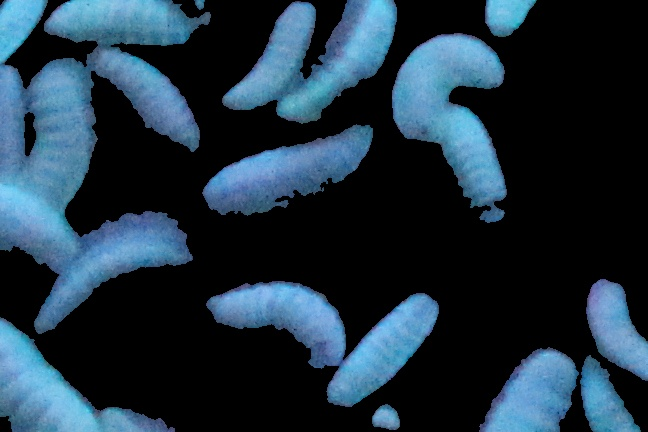larvae: (36, 221, 195, 335), (204, 126, 374, 212), (279, 1, 397, 122), (90, 46, 215, 155), (327, 293, 439, 408), (1, 318, 109, 432), (207, 283, 345, 370), (391, 35, 503, 142), (221, 1, 318, 110), (29, 58, 94, 217), (476, 348, 581, 432), (437, 104, 507, 222), (1, 187, 81, 269), (586, 278, 648, 383), (46, 1, 187, 46), (581, 356, 639, 432), (1, 64, 30, 194), (1, 1, 49, 63), (484, 1, 535, 37)
